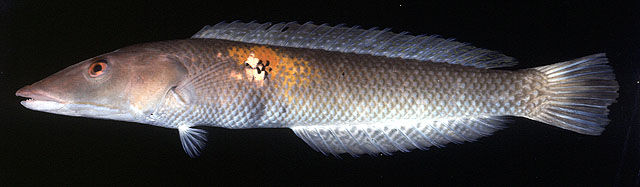fish: (15, 21, 618, 154)
